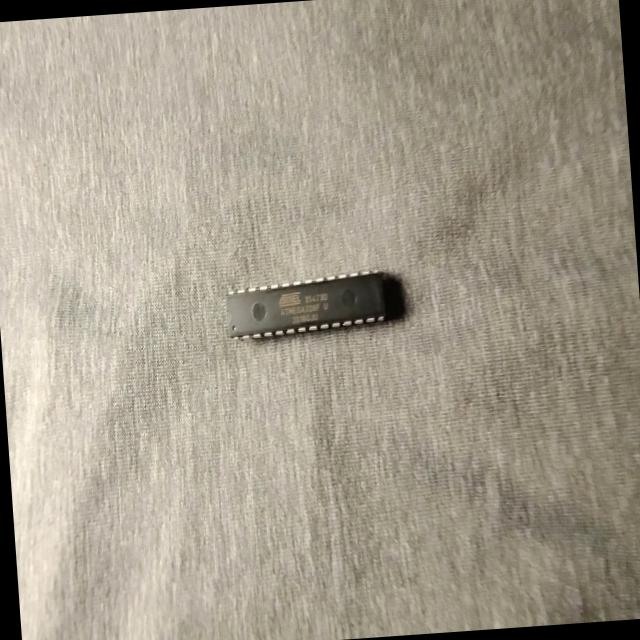atmega: (221, 267, 391, 345)
